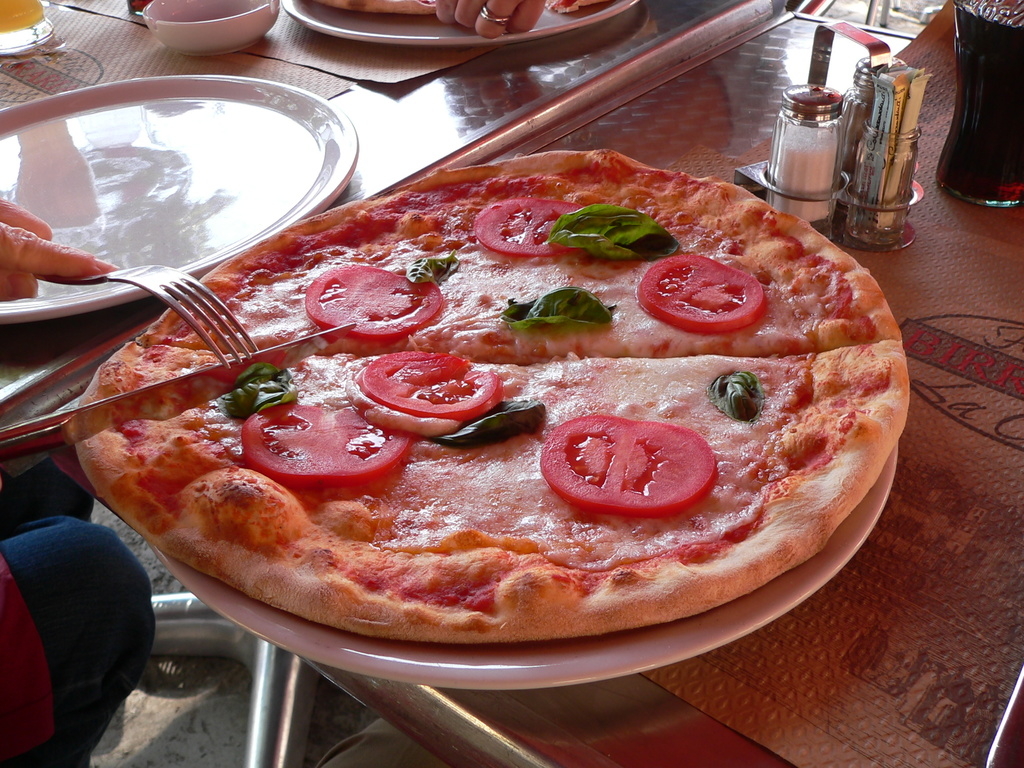Pizza: (69, 144, 910, 667)
